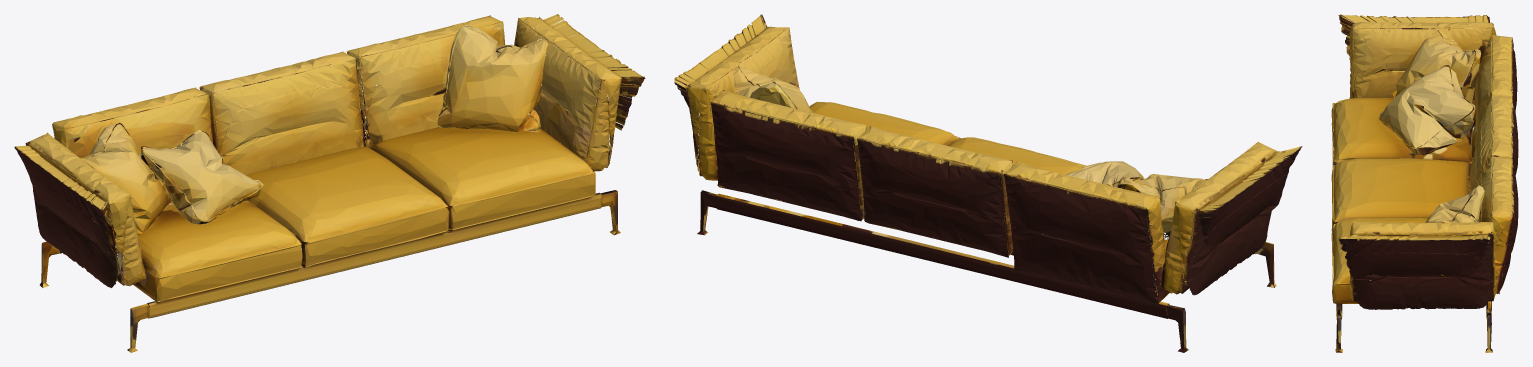
The model's file is edited_mesh.glb.
The picture shows the model from 3 angles, left to right: view 1: azimuth 30°, elevation 25°; view 2: azimuth 150°, elevation 25°; view 3: azimuth 270°, elevation 25°; orthographic projection. The views are drawn at different scales.
Visible parts, largest first — view 1: solid_001_wire; view 2: solid_001_wire; view 3: solid_001_wire.
Boxes of the visible parts, left/top/right/bottom form: solid_001_wire: left=14, top=14, right=645, bottom=352; solid_001_wire: left=674, top=14, right=1302, bottom=352; solid_001_wire: left=1331, top=14, right=1518, bottom=352.
Bounding box in the file's own units: 2 × 0.577 × 0.7051.
Materials: 1 (1 with a texture image).
